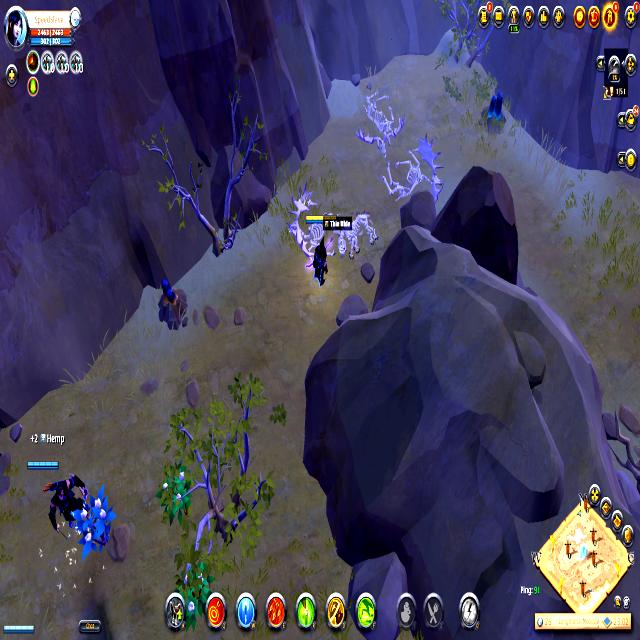hide: (74, 483, 116, 556), (174, 552, 214, 626), (158, 461, 194, 529)
player: (153, 276, 193, 332), (478, 86, 511, 136)
red: (26, 451, 91, 538), (304, 217, 334, 290), (1, 618, 37, 640)
